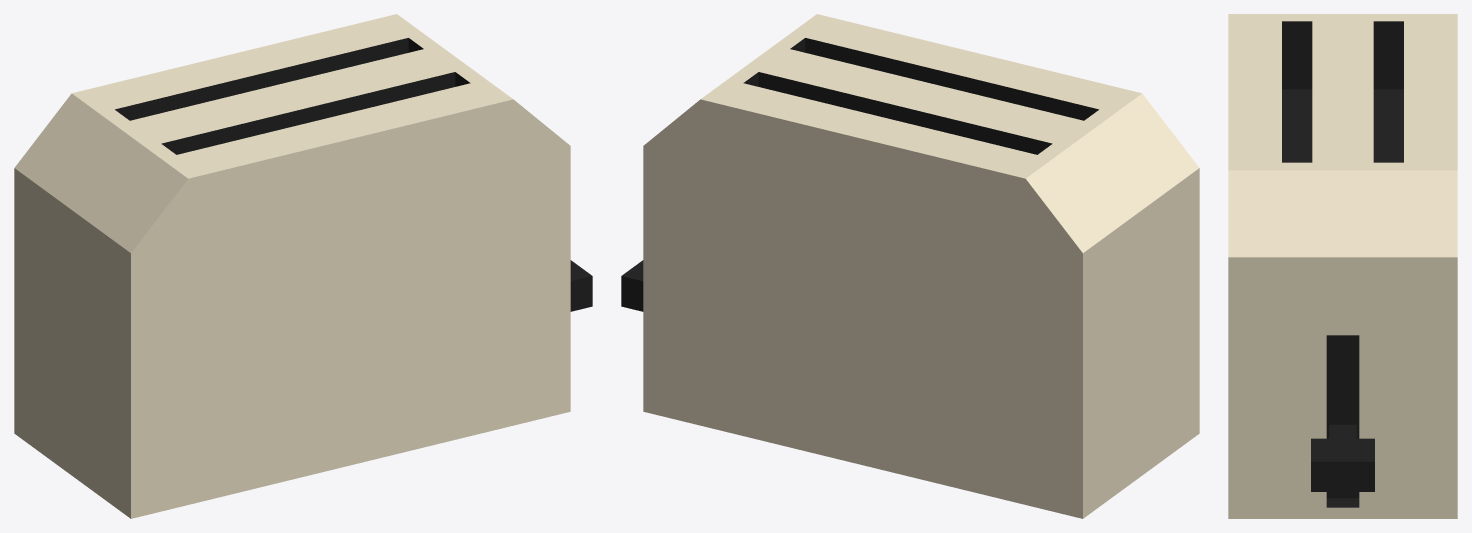
The model's file is toaster2_PLY.fbx.
3 views of the same model, side by side, from view 1: azimuth 30°, elevation 25°; view 2: azimuth 150°, elevation 25°; view 3: azimuth 270°, elevation 25° (orthographic).
Parts seen in each view (by area): view 1: toaster2_PLY; view 2: toaster2_PLY; view 3: toaster2_PLY.
Part boxes in pixels (x1,y1,x2,y2): toaster2_PLY: (14,14,592,518); toaster2_PLY: (621,14,1199,518); toaster2_PLY: (1228,14,1457,518).
Bounding box in the file's own units: 1.51 × 0.9352 × 0.6059.
